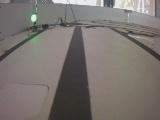tl_green: (30, 0, 39, 24)
